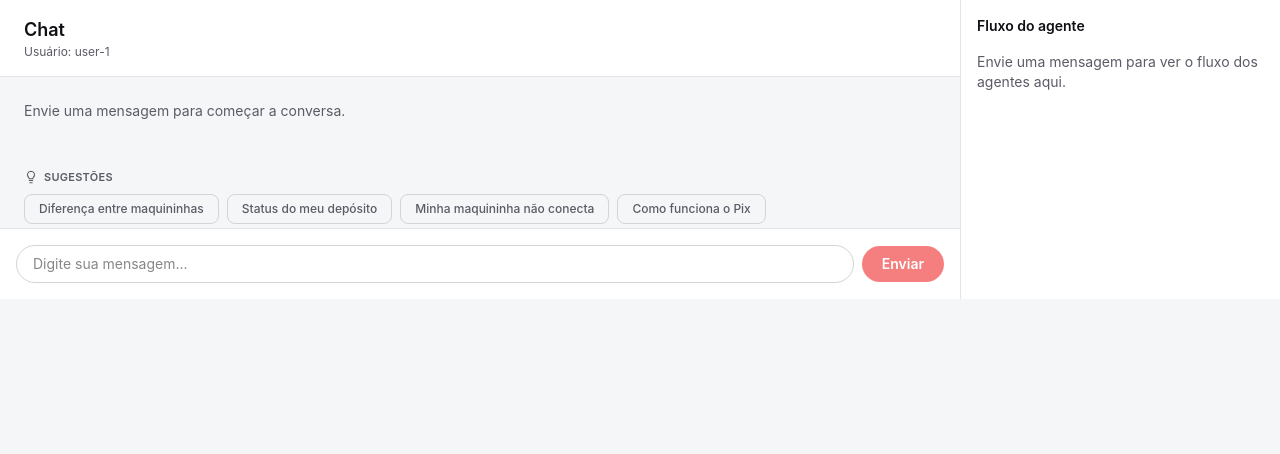
Test: ChatPage › renders no sources section when the response has an empty sources array
Step 1. Type "oi" into the field labelled "mensagem" → (435, 264), box left=16, top=244, right=854, bottom=282
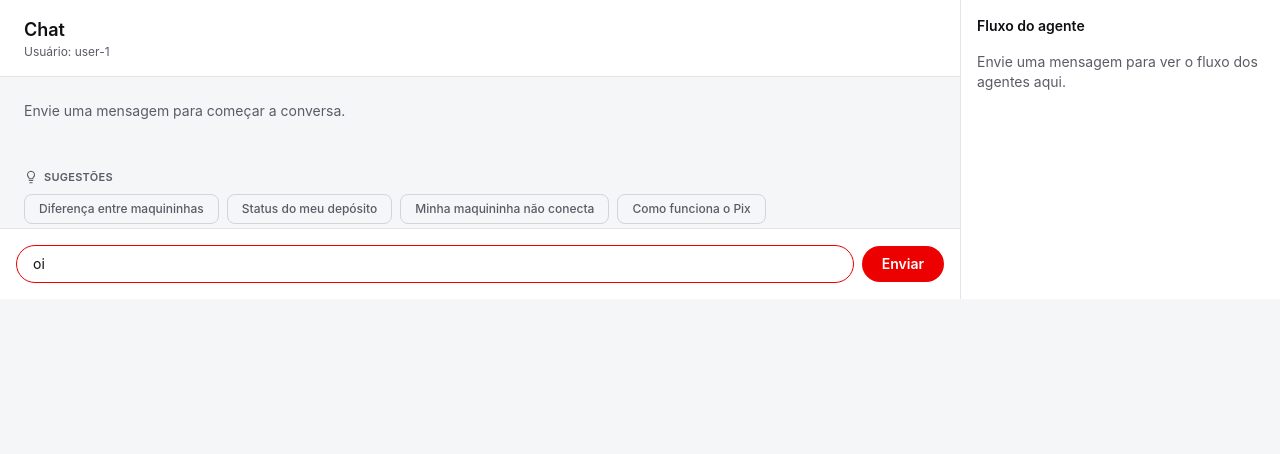
Step 2. Click the button "Enviar" → (903, 264), box left=862, top=246, right=944, bottom=282
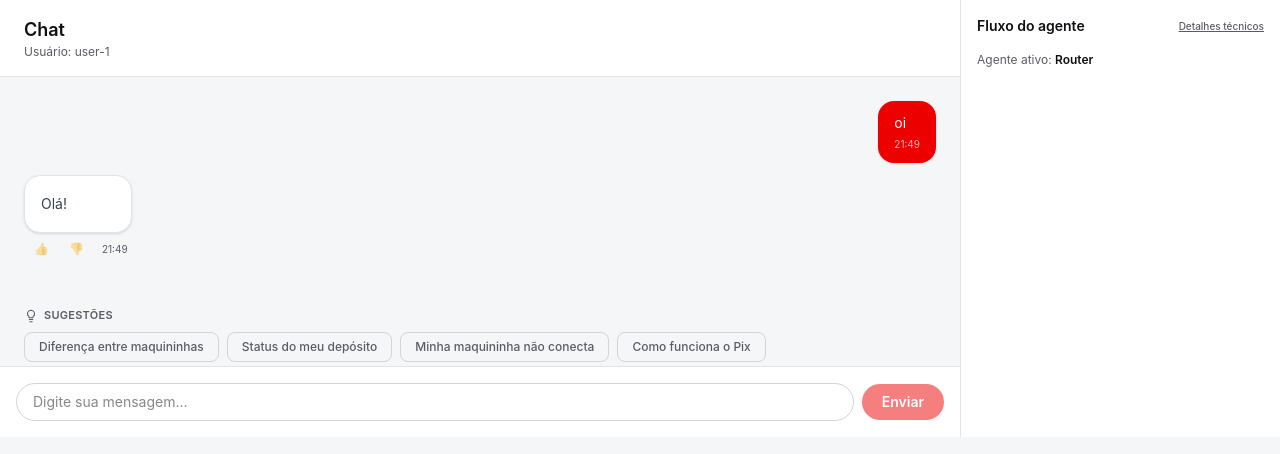
Check: the number of elements with test id "message-bubble" is 2, box left=878, top=101, right=936, bottom=163; left=24, top=175, right=132, bottom=259
